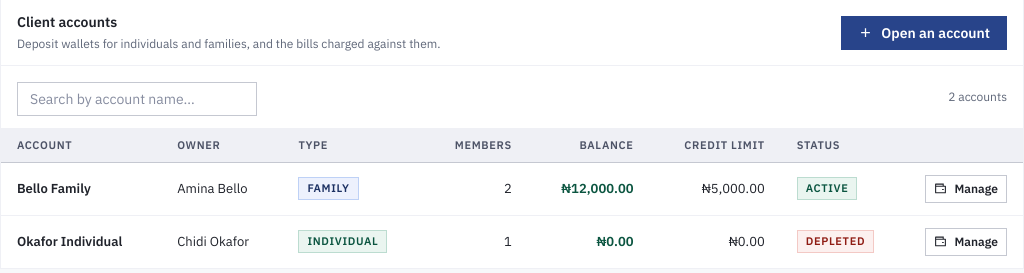
the wallet directory › filters by account name
Type "okafor" into the search field named "Search accounts".
click(137, 99); type("okafor")  # box [17,82,257,116]
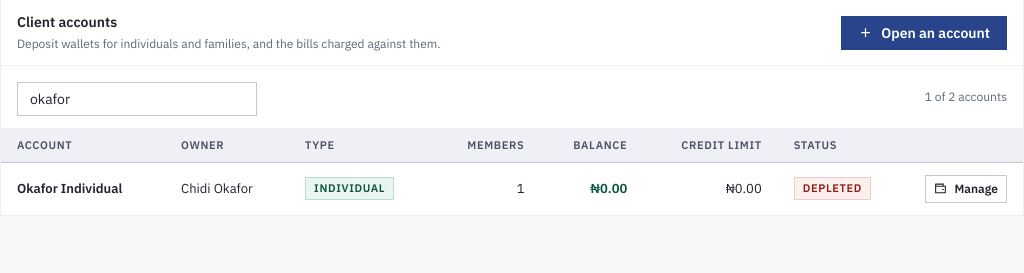
Check: the text "Okafor Individual" is shown, box [17,180,122,197]
Check: the text "Bello Family" is gone
